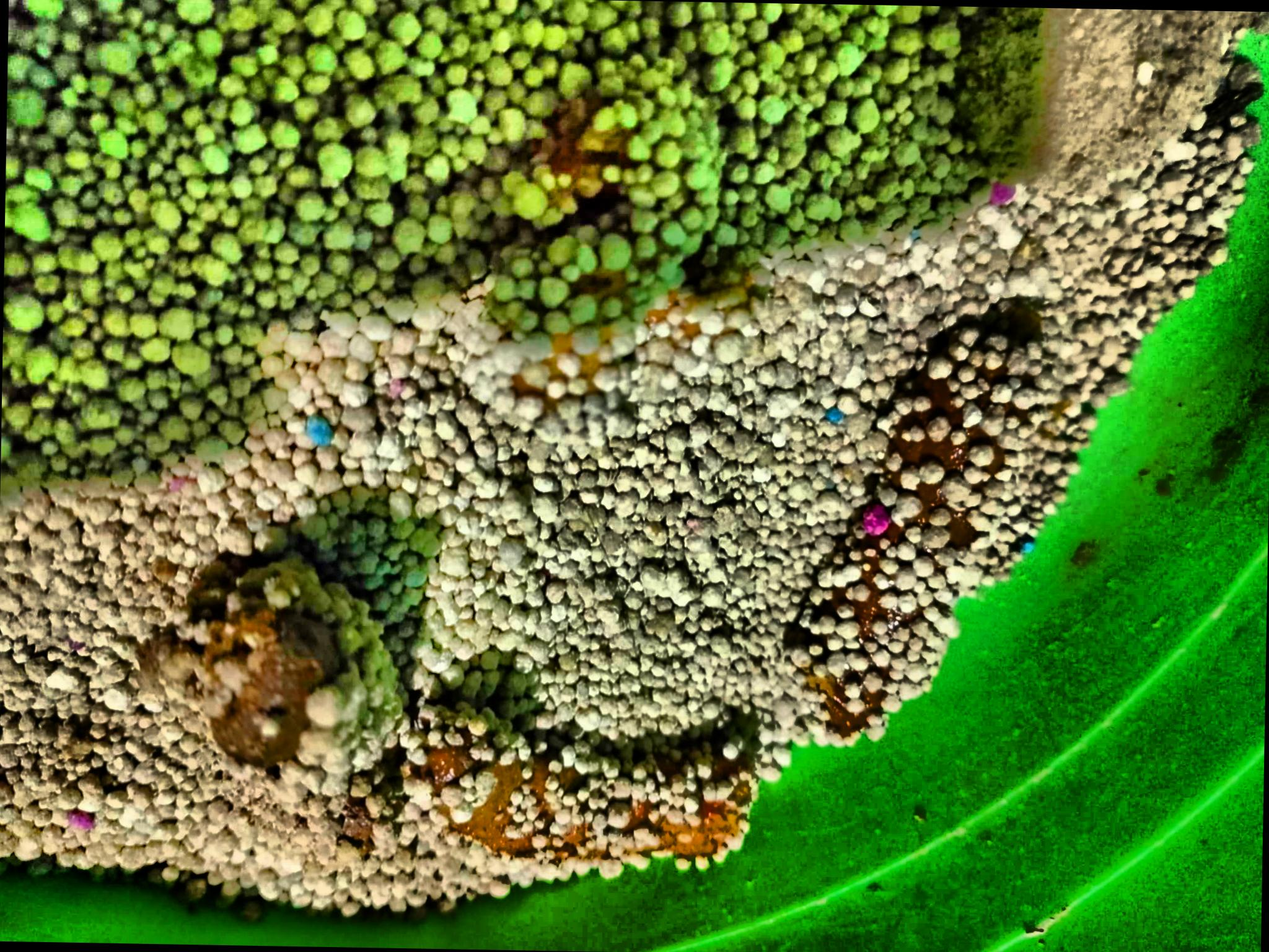litter_sand: (959, 7, 1269, 202)
poop: (106, 534, 760, 880), (774, 295, 1082, 748), (460, 79, 774, 443)
